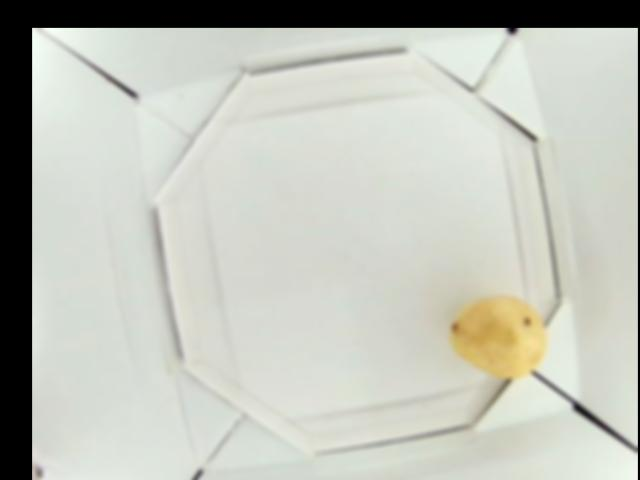Potato: (453, 292, 547, 377)
